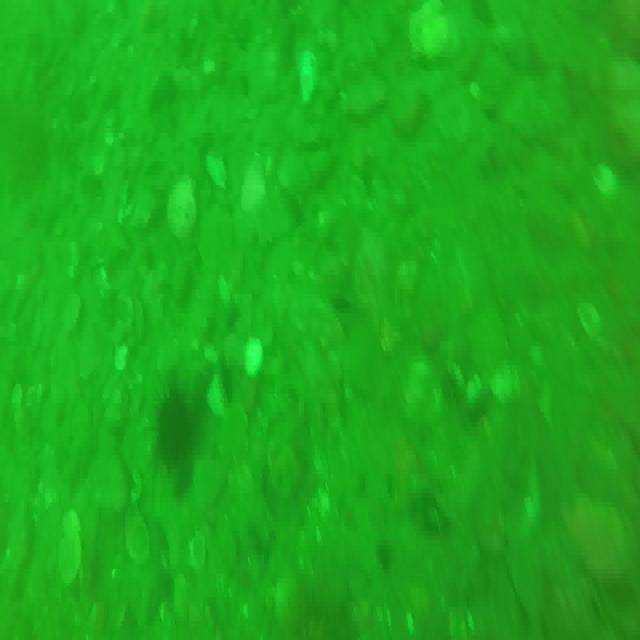echinus: (152, 388, 200, 468)
scallop: (55, 507, 84, 583), (167, 182, 197, 236), (125, 505, 151, 565), (239, 161, 267, 211), (592, 158, 620, 200), (300, 54, 317, 102), (578, 302, 601, 335), (245, 338, 261, 380), (189, 534, 204, 574)
starfish: (562, 495, 628, 577)
